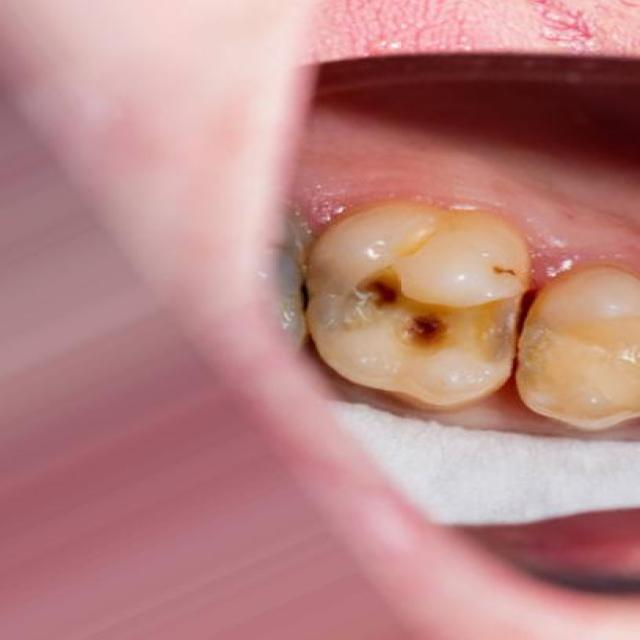caries: (302, 200, 517, 402), (494, 272, 640, 423)
